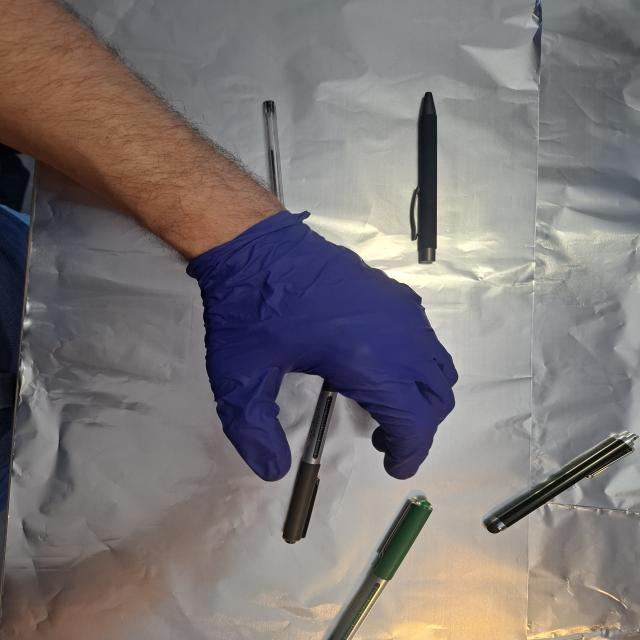glove_on: (194, 215, 463, 482)
